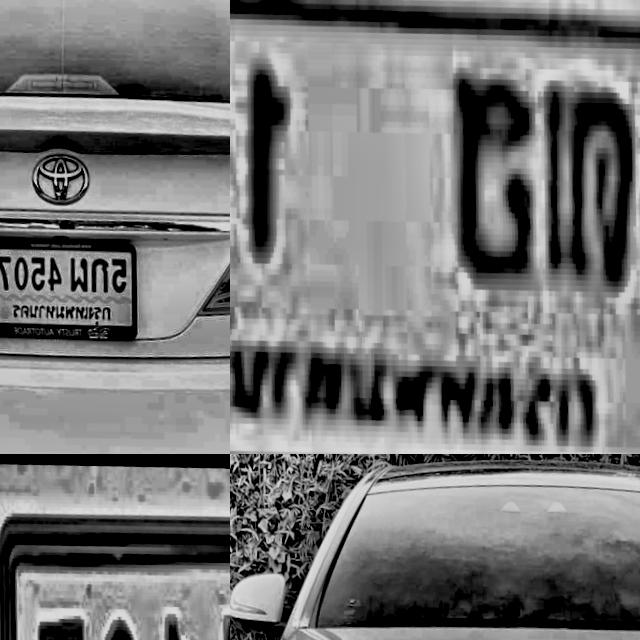license-plate: (230, 0, 640, 454), (0, 454, 230, 640), (0, 217, 148, 343)
